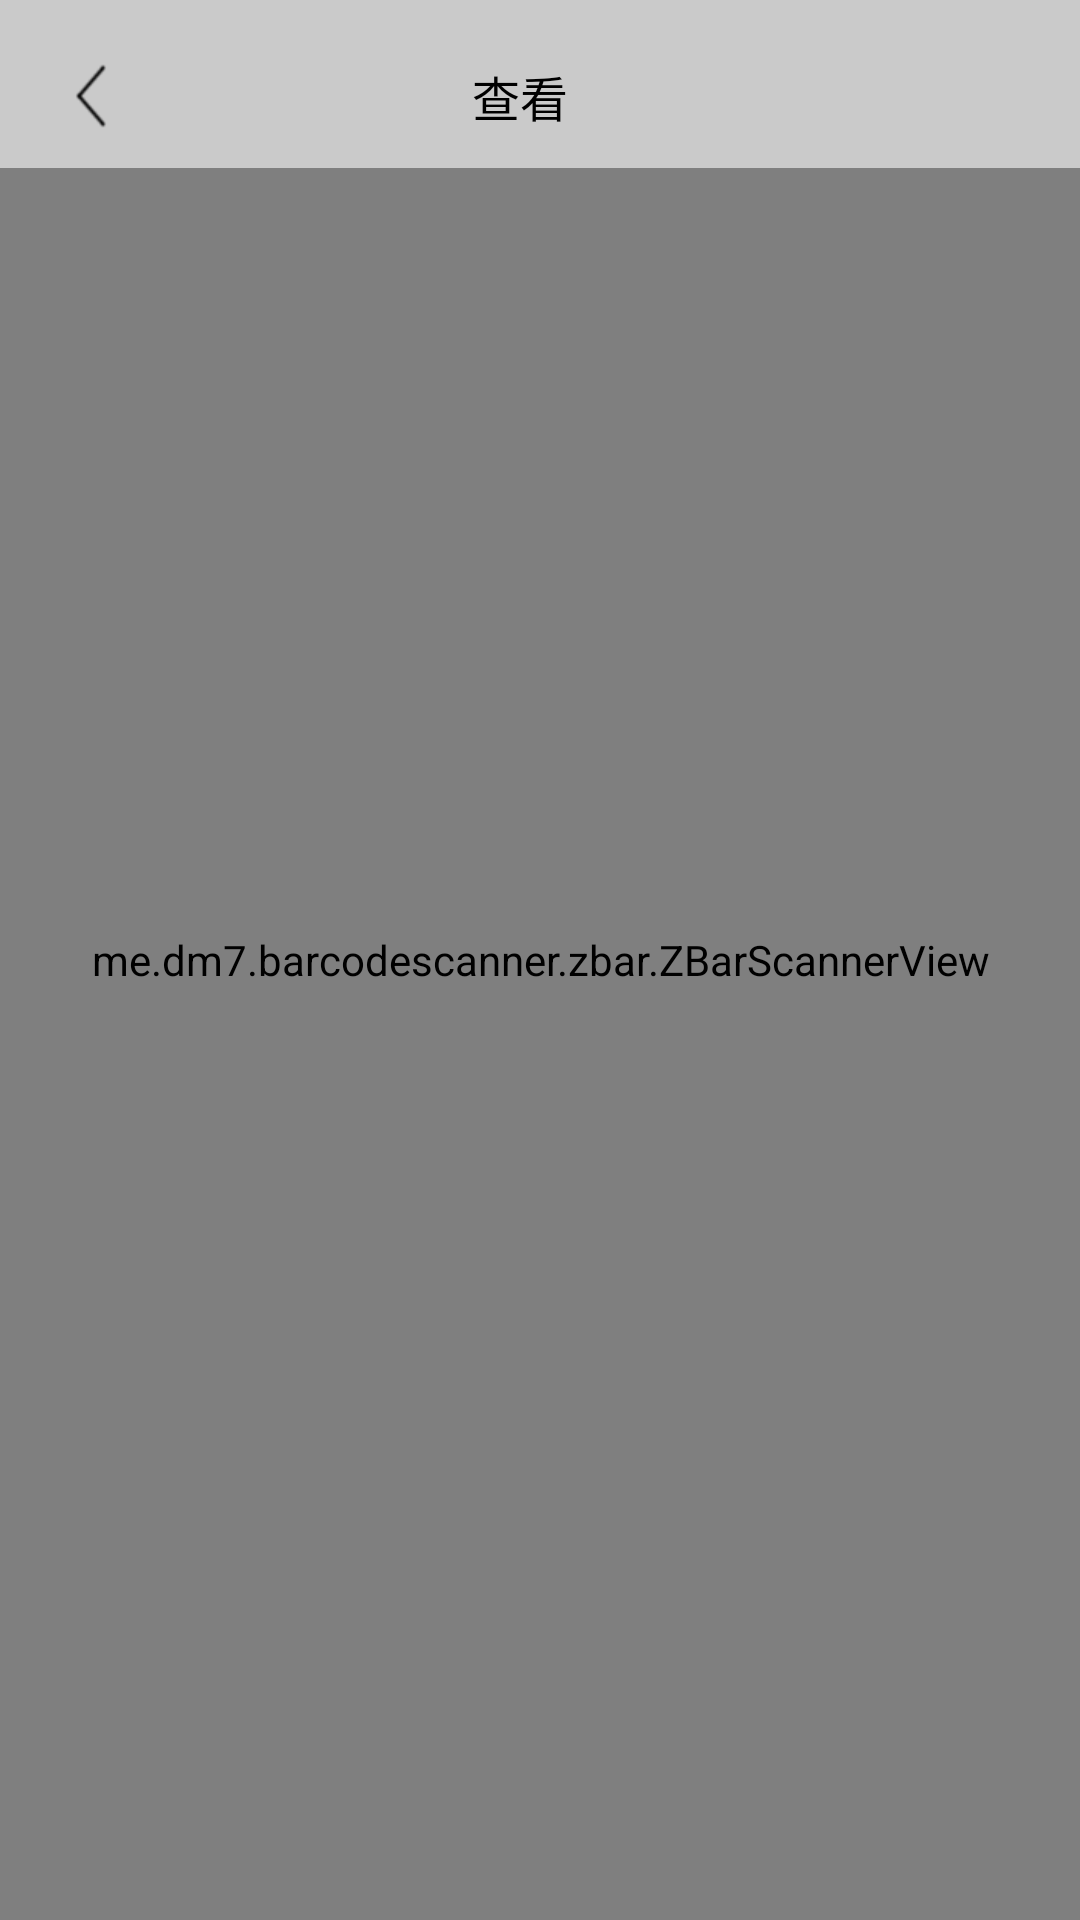

Where icons sit on this 1080 x 1920 app screen, as (x1, y1, x2, y2):
bar back: (76, 65, 106, 127)
